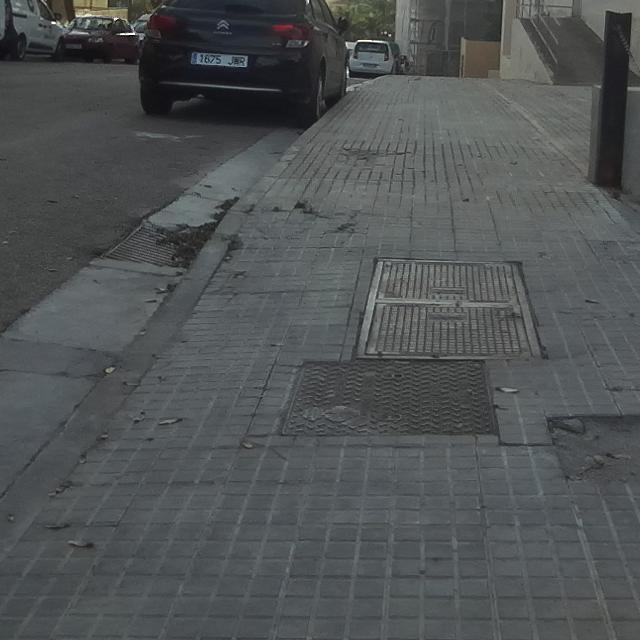calcada_quebrada: (244, 439, 286, 463)
